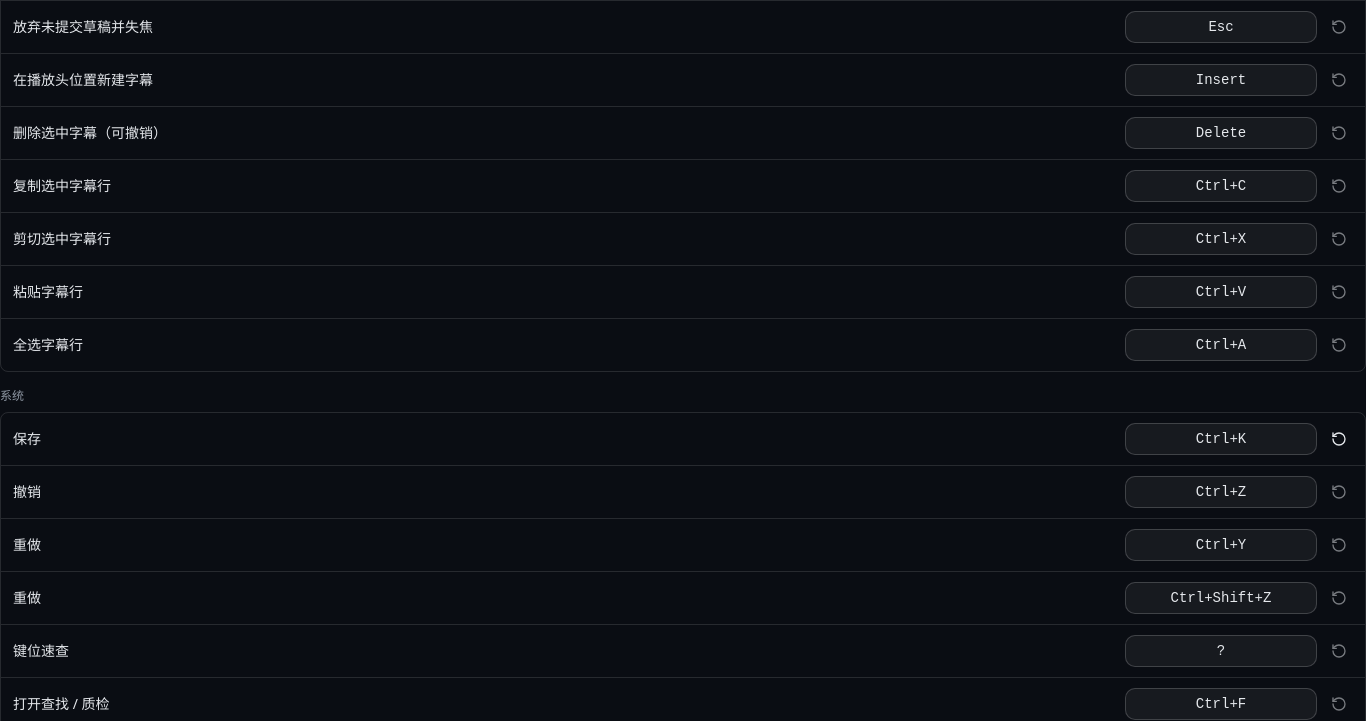
Scenario: SettingsShortcutsPanel › rejects conflicts and restores defaults
(page scrolled)
Press z in the field named "保存 快捷键", box [1125, 423, 1317, 455]
(page scrolled)
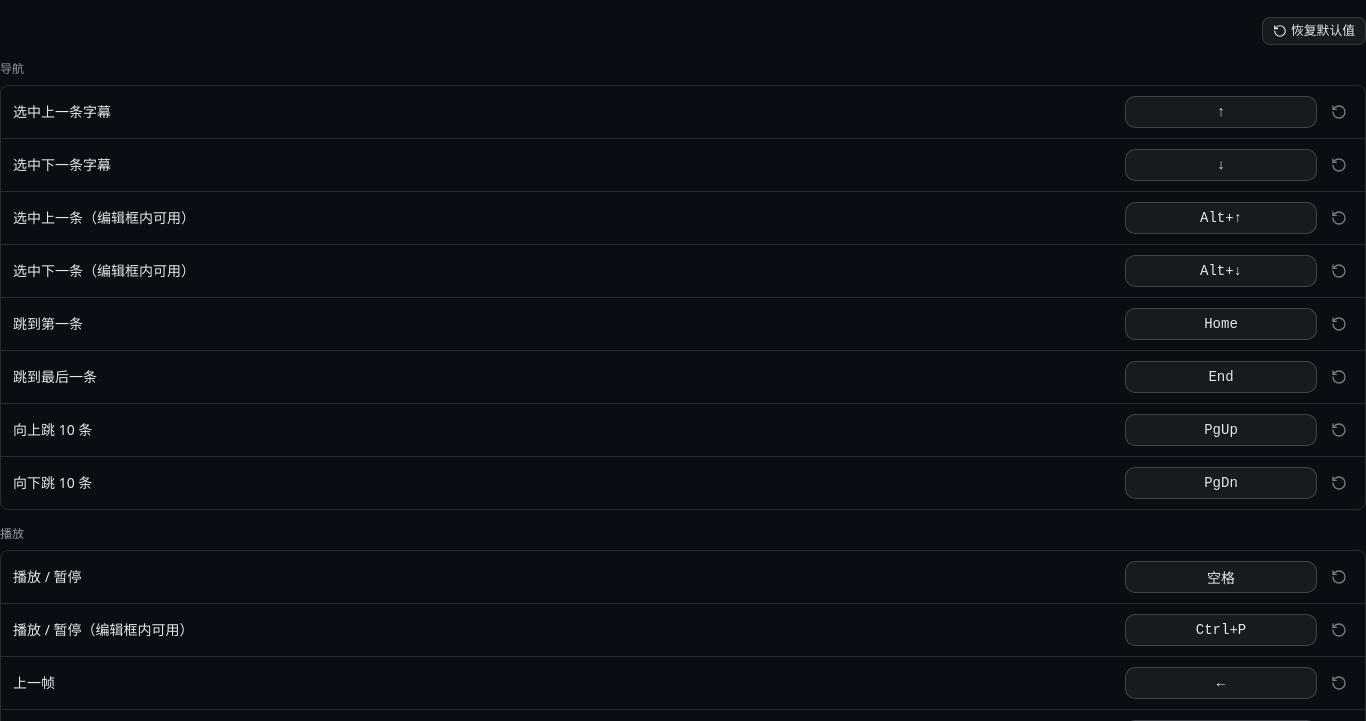
Click the button "恢复默认值". click: (1314, 31)
box: [1262, 17, 1365, 45]
(page scrolled)
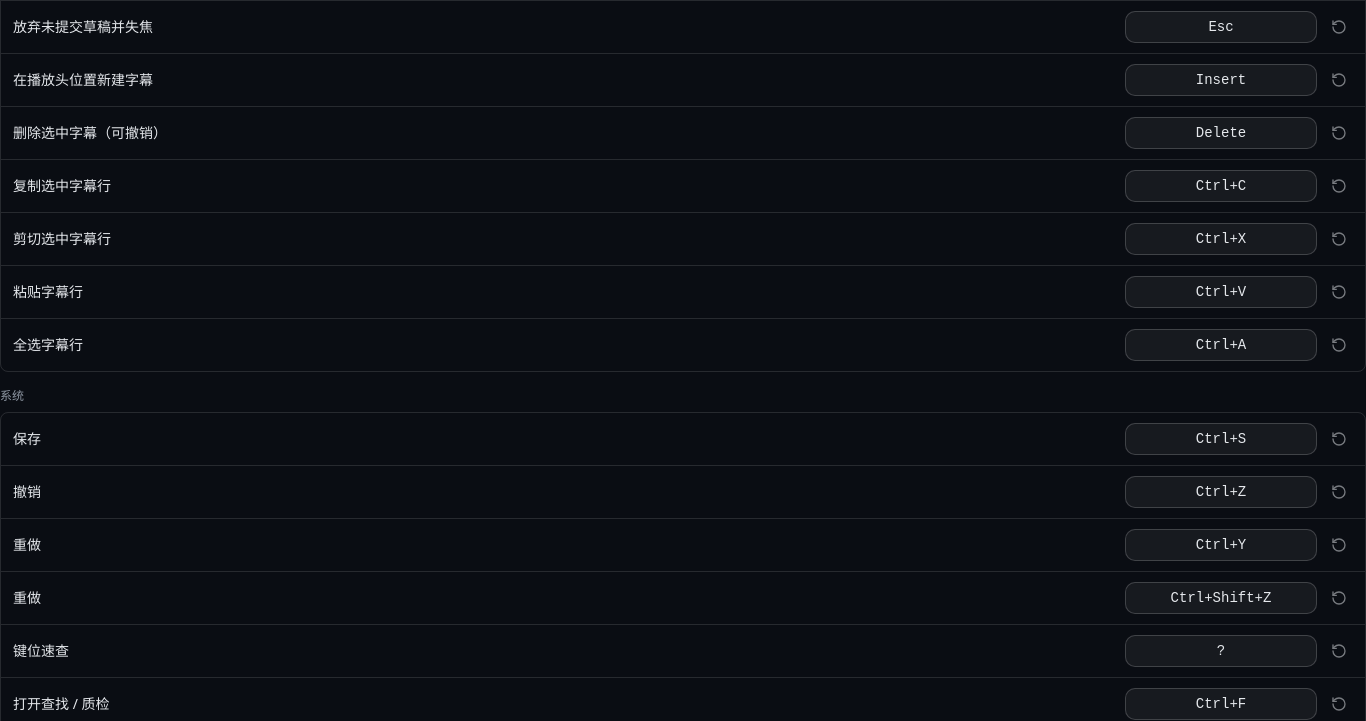
expect the field named "保存 快捷键" holds "Ctrl+S": met, box [1125, 423, 1317, 455]
